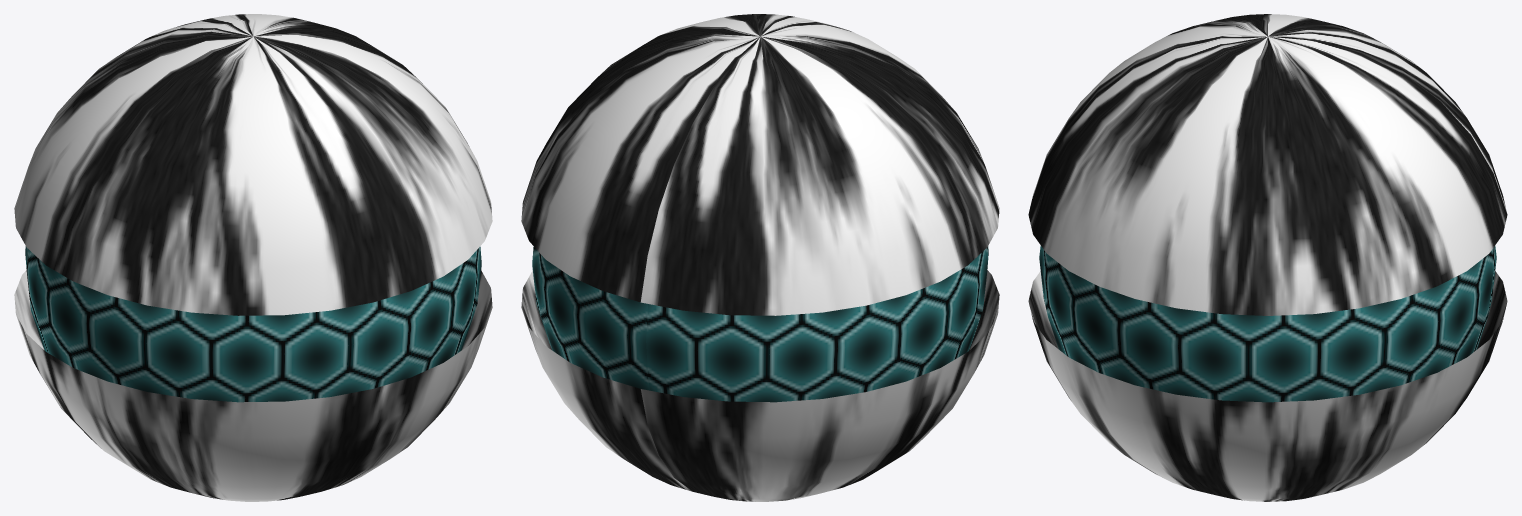
File: shield.FBX
The picture shows the model from 3 angles, left to right: view 1: azimuth 30°, elevation 25°; view 2: azimuth 150°, elevation 25°; view 3: azimuth 270°, elevation 25°; orthographic projection.
Visible parts, largest first — view 1: Sphere002, Sphere001; view 2: Sphere002, Sphere001; view 3: Sphere002, Sphere001.
Boxes of the visible parts, x1,y1,x2,y2 form: Sphere002: (14,14,492,501); Sphere001: (25,246,481,402); Sphere002: (521,14,999,501); Sphere001: (532,246,988,402); Sphere002: (1028,14,1507,501); Sphere001: (1039,245,1496,402).
Bounding box in the file's own units: 42.76 × 43.6 × 42.76.
